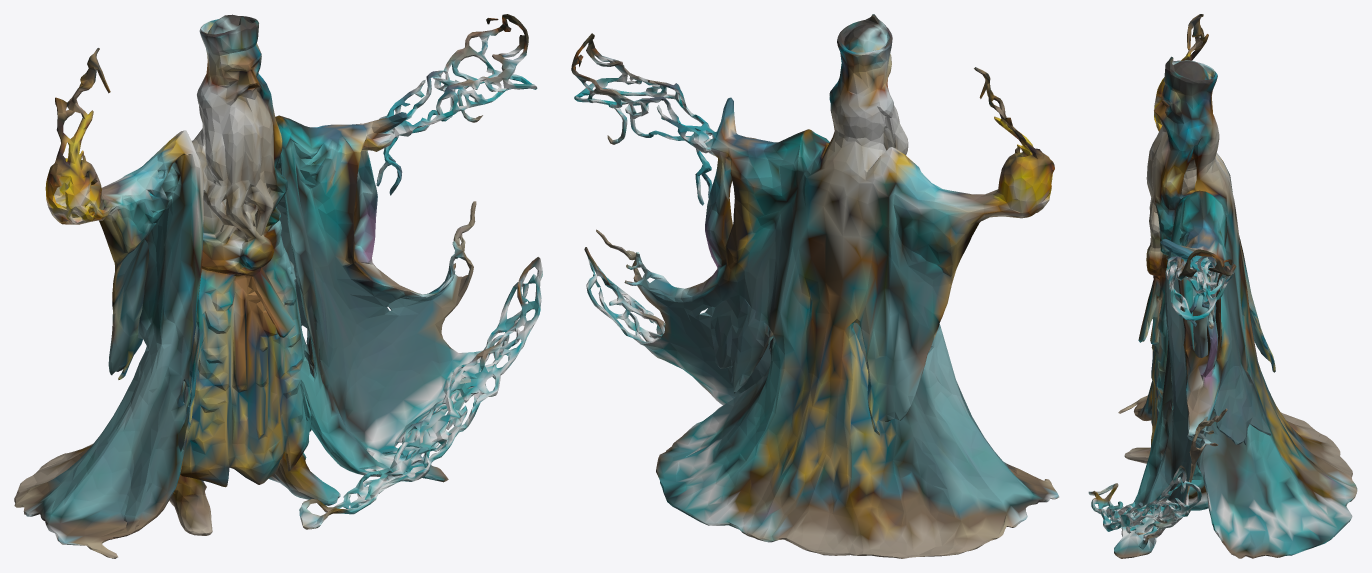
Rendered from forestDokkaebi.glb.
3 renders of one model, left to right at view 1: azimuth 30°, elevation 25°; view 2: azimuth 150°, elevation 25°; view 3: azimuth 270°, elevation 25°, orthographic. The views are drawn at different scales.
Parts seen in each view (by area): view 1: world; view 2: world; view 3: world.
Part boxes in pixels (left/top/right/bottom): world: left=14, top=14, right=542, bottom=558; world: left=571, top=14, right=1059, bottom=558; world: left=1088, top=14, right=1357, bottom=558.
Size of the model in its own units: 1.05 by 1 by 0.5644.
